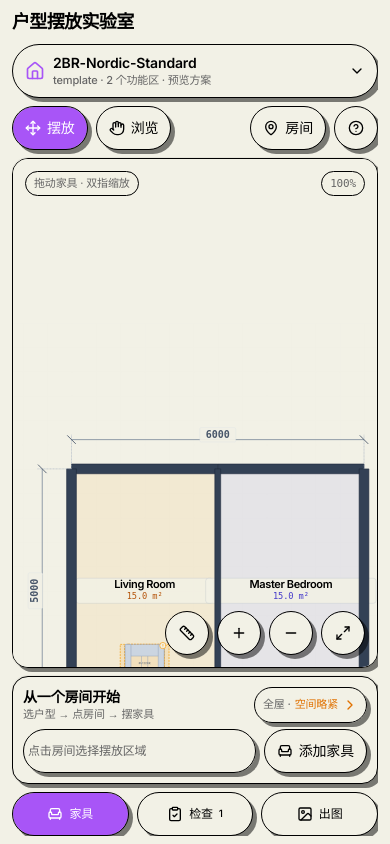
Test: Mobile Floor Plan Editor Ergonomics (AC-5, AC-4, AC-27) › uses amber for recommended-only clearance and the same measurements in the check list
This screenshot has width=390, height=844.
Expected: the button with test id "mobile-assessment-btn" reads "全屋 · 空间略紧", [254,687,367,723]
Click the button with test id "mobile-rules-btn" at x=195, y=814, box [137,792,253,836]
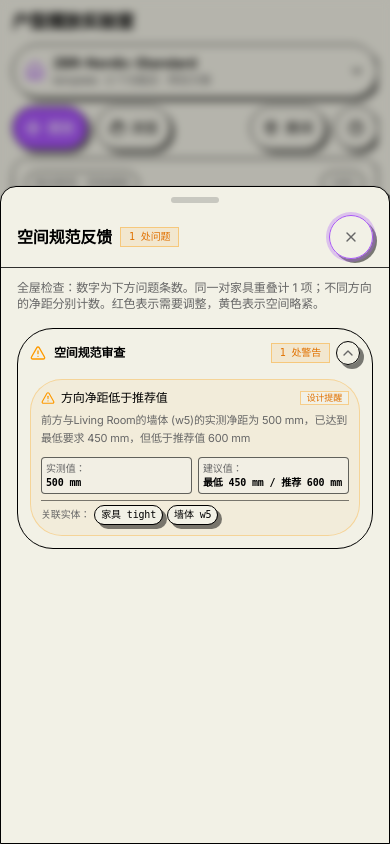
Now the element with test id "rule-violation-furniture-clearance" shows "500 mm", box [46,477,81,488]
Now the element with test id "rule-violation-furniture-clearance" shows "最低 450 mm / 推荐 600 mm", box [203,477,342,488]
